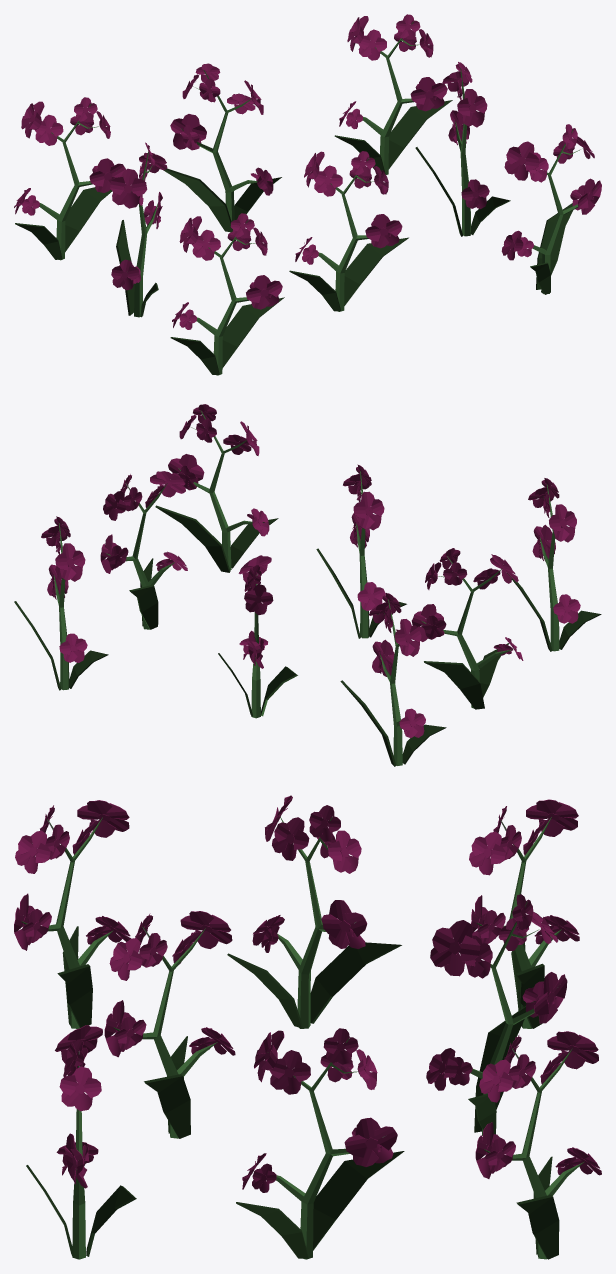
The picture shows the model from 3 angles, top to bottom: view 1: azimuth 30°, elevation 25°; view 2: azimuth 150°, elevation 25°; view 3: azimuth 270°, elevation 25°; orthographic projection. The views are drawn at different scales.
Visible parts, largest first — view 1: Object014; view 2: Object014; view 3: Object014.
Part boxes in pixels (box(x1,y1,x2,y2)): Object014: box(14, 14, 601, 375); Object014: box(14, 404, 601, 766); Object014: box(14, 795, 601, 1259).
Bounding box in the file's own units: 296 × 105 × 241.
